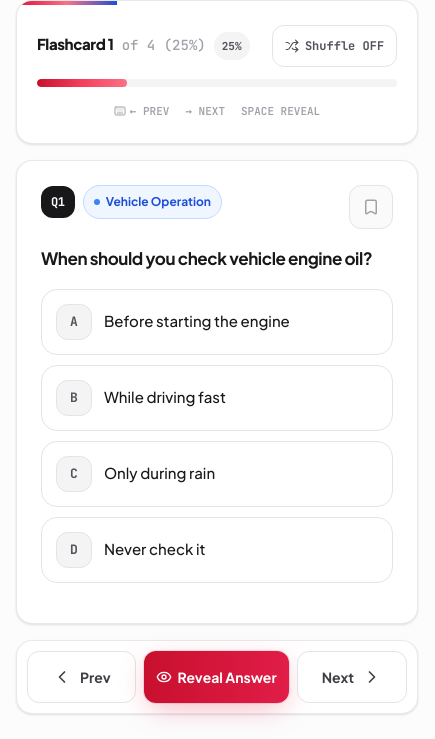
Test: FlashcardView Component › toggles shuffle mode
Click the button "Shuffle OFF": [334, 46] box [272, 25, 397, 67]
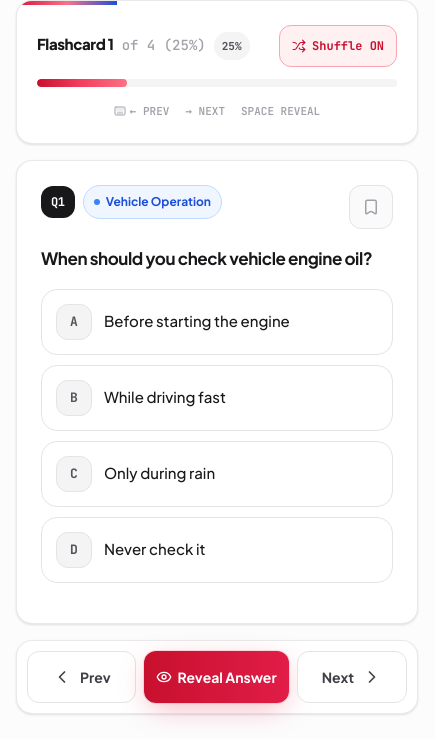
Result: the button "Shuffle ON" is shown at [279, 25, 397, 67]
